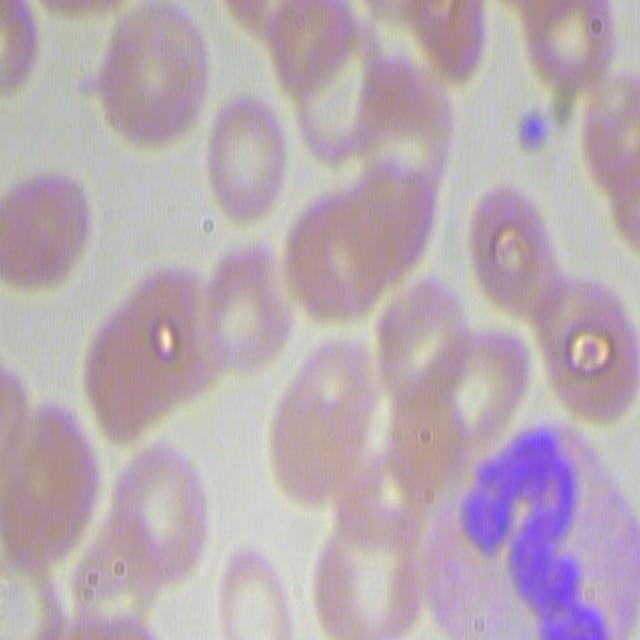RBC: (91, 278, 195, 439), (278, 343, 380, 507), (99, 5, 207, 149), (538, 279, 634, 421), (6, 412, 94, 564), (114, 437, 204, 580), (133, 271, 219, 407), (312, 530, 423, 635), (368, 60, 452, 195), (289, 197, 385, 314), (203, 247, 294, 367), (473, 191, 557, 313), (384, 282, 468, 400), (349, 167, 433, 282), (0, 180, 89, 286), (428, 338, 530, 428), (276, 0, 356, 107), (523, 0, 614, 91), (213, 103, 285, 217), (80, 514, 154, 616), (356, 451, 436, 540), (217, 545, 283, 640), (418, 0, 488, 84), (234, 0, 323, 41), (0, 0, 39, 81), (0, 378, 29, 462)
WBC: (468, 437, 612, 640)
platelets: (516, 111, 546, 154)
